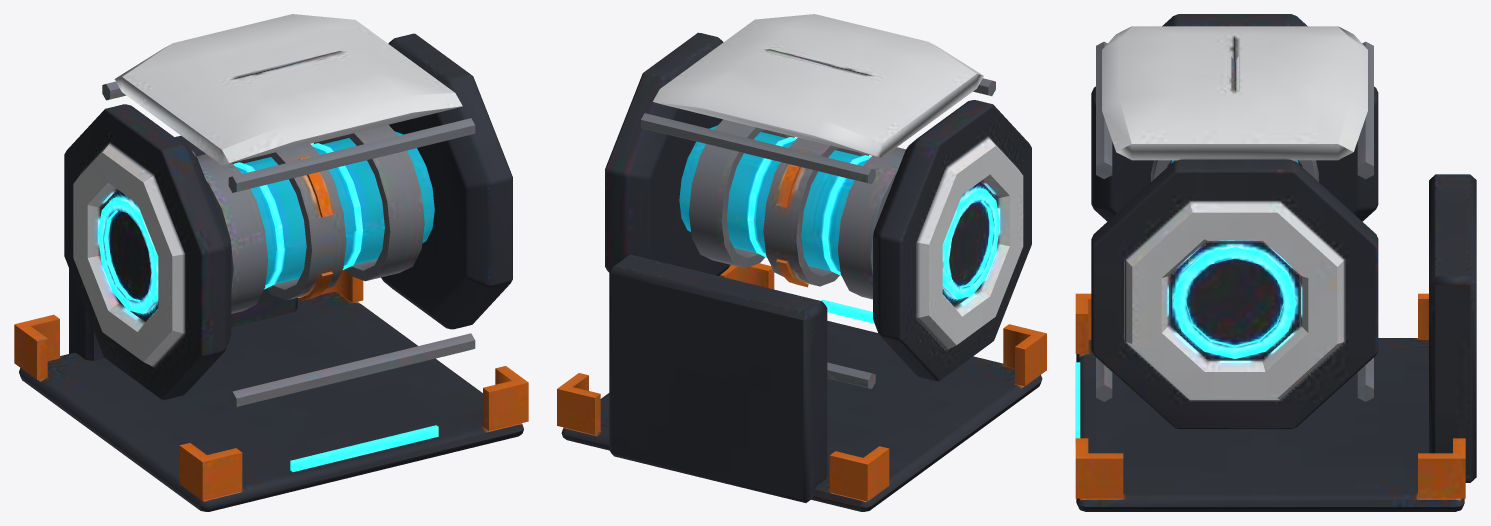
The model's file is R4X_Battery_LOD1.glb.
3 renders of one model, left to right at view 1: azimuth 30°, elevation 25°; view 2: azimuth 150°, elevation 25°; view 3: azimuth 270°, elevation 25°, orthographic. The views are drawn at different scales.
Visible parts, largest first — view 1: R4X_Battery_LOD1; view 2: R4X_Battery_LOD1; view 3: R4X_Battery_LOD1.
Boxes of the visible parts, x1=… form: R4X_Battery_LOD1: x1=14, y1=14, x2=528, y2=511; R4X_Battery_LOD1: x1=557, y1=14, x2=1046, y2=511; R4X_Battery_LOD1: x1=1075, y1=14, x2=1476, y2=511.
Bounding box in the file's own units: 0.5 × 0.516 × 0.5065.
Materials: 4 (4 with a texture image).
